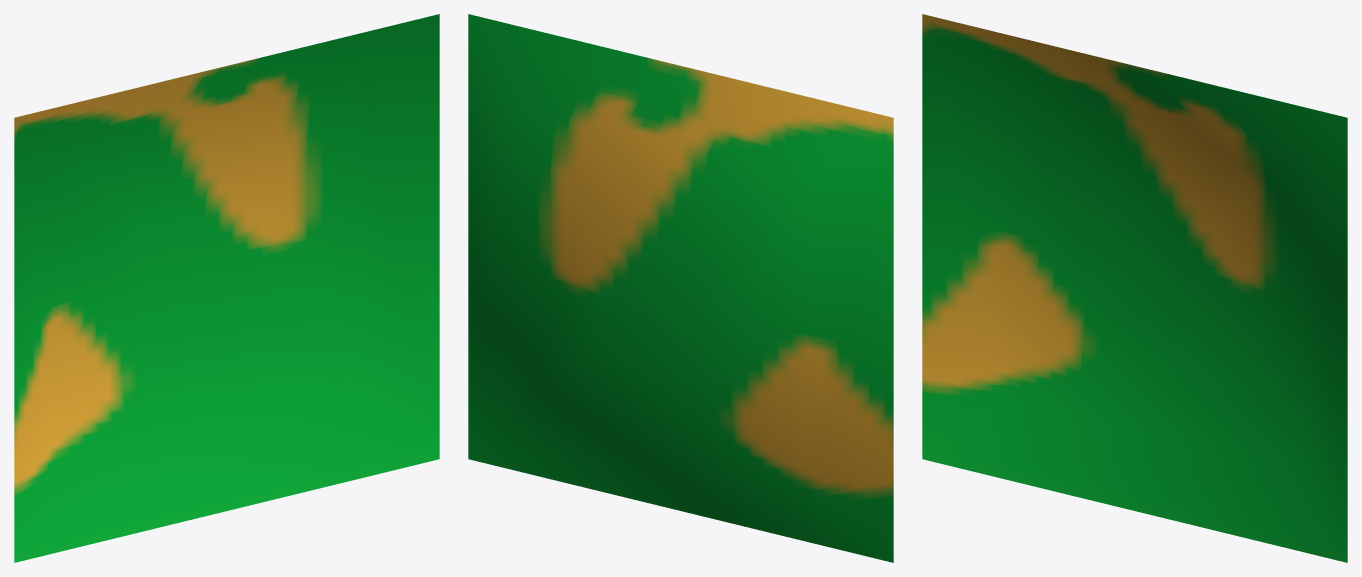
File: p_mesh_trashbot_splatter_plane01.fbx
The picture shows the model from 3 angles, left to right: view 1: azimuth 30°, elevation 25°; view 2: azimuth 150°, elevation 25°; view 3: azimuth 330°, elevation 25°; orthographic projection.
Parts seen in each view (by area): view 1: p_mesh_trashbot_splatter_plane01; view 2: p_mesh_trashbot_splatter_plane01; view 3: p_mesh_trashbot_splatter_plane01.
Boxes of the visible parts, <box> form: p_mesh_trashbot_splatter_plane01: <box>14,14,439,562</box>; p_mesh_trashbot_splatter_plane01: <box>468,14,893,562</box>; p_mesh_trashbot_splatter_plane01: <box>922,14,1347,562</box>.
Size of the model in its own units: 2.48 by 2.48 by 0.3064.
